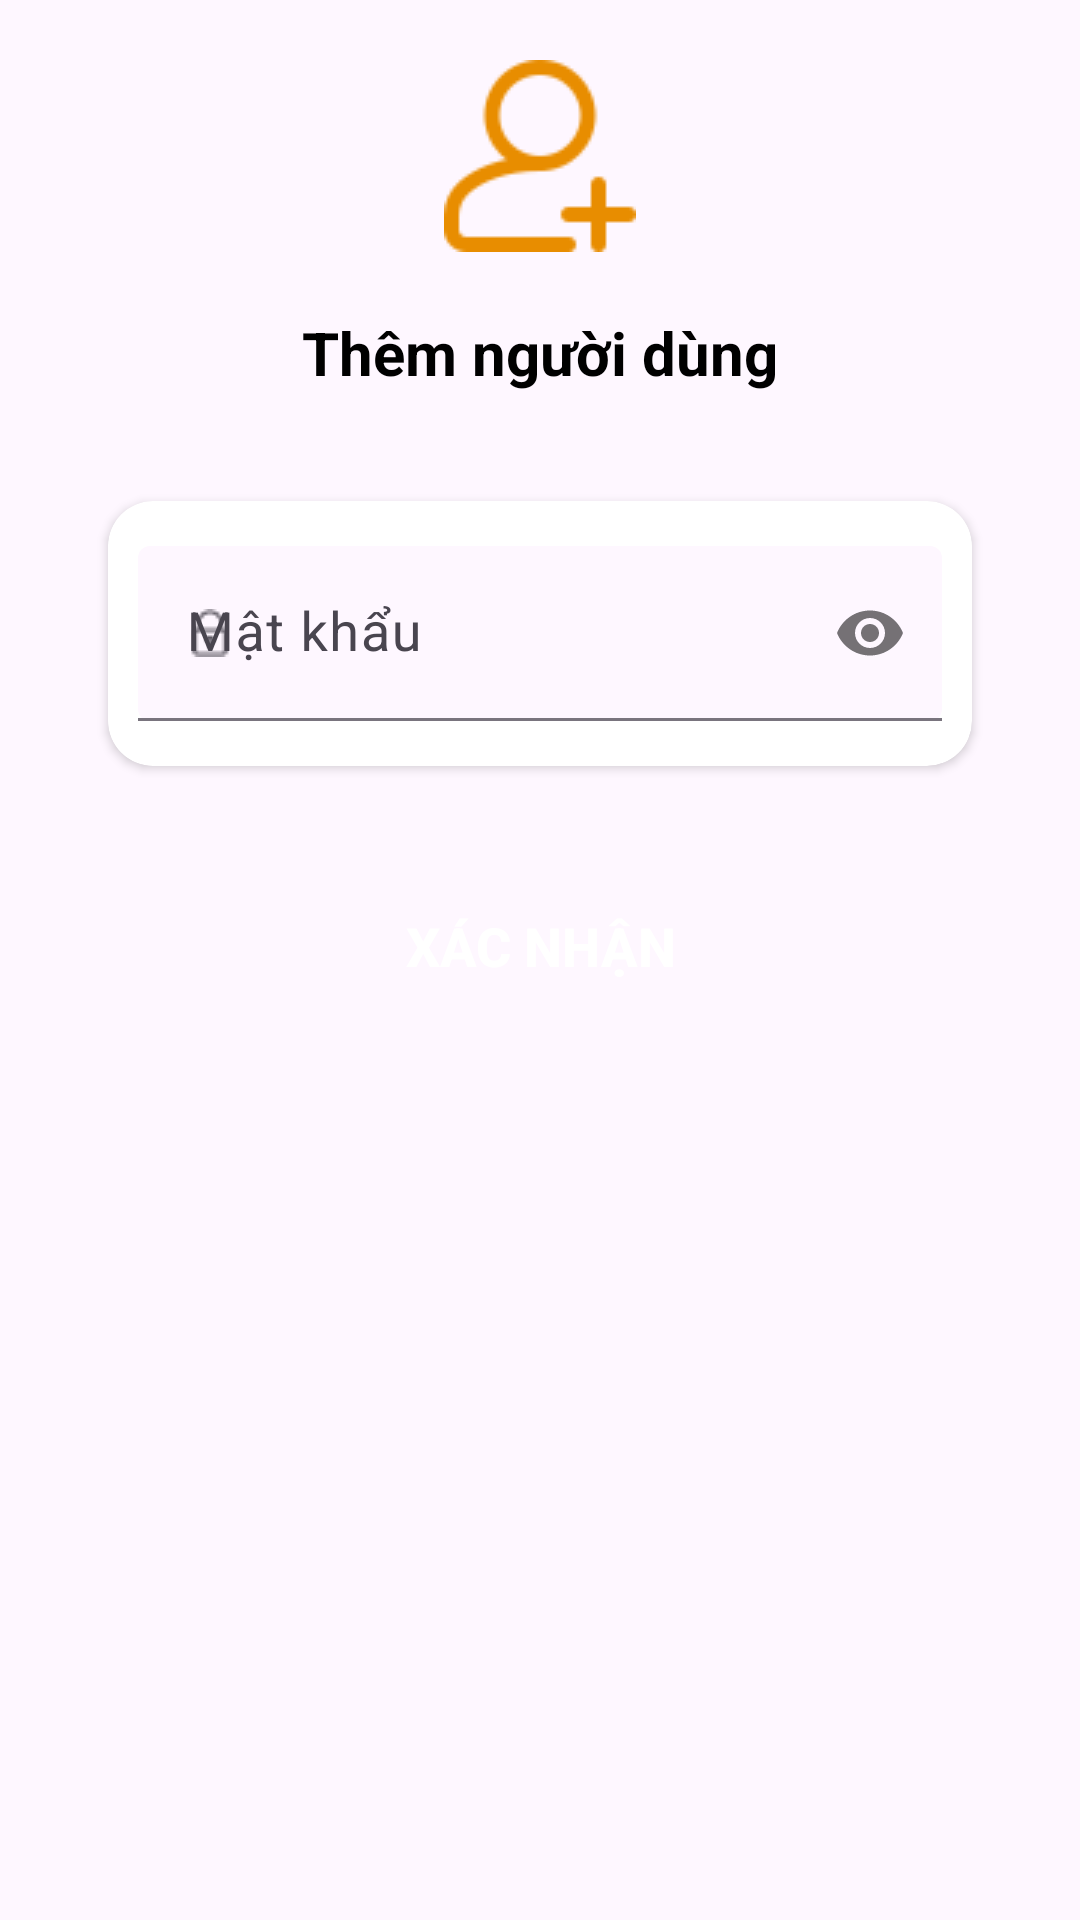

Where to tap for icons on this 1080px×1920px app screen, as (x=x, y=y):
adduserui: (x=540, y=156)
